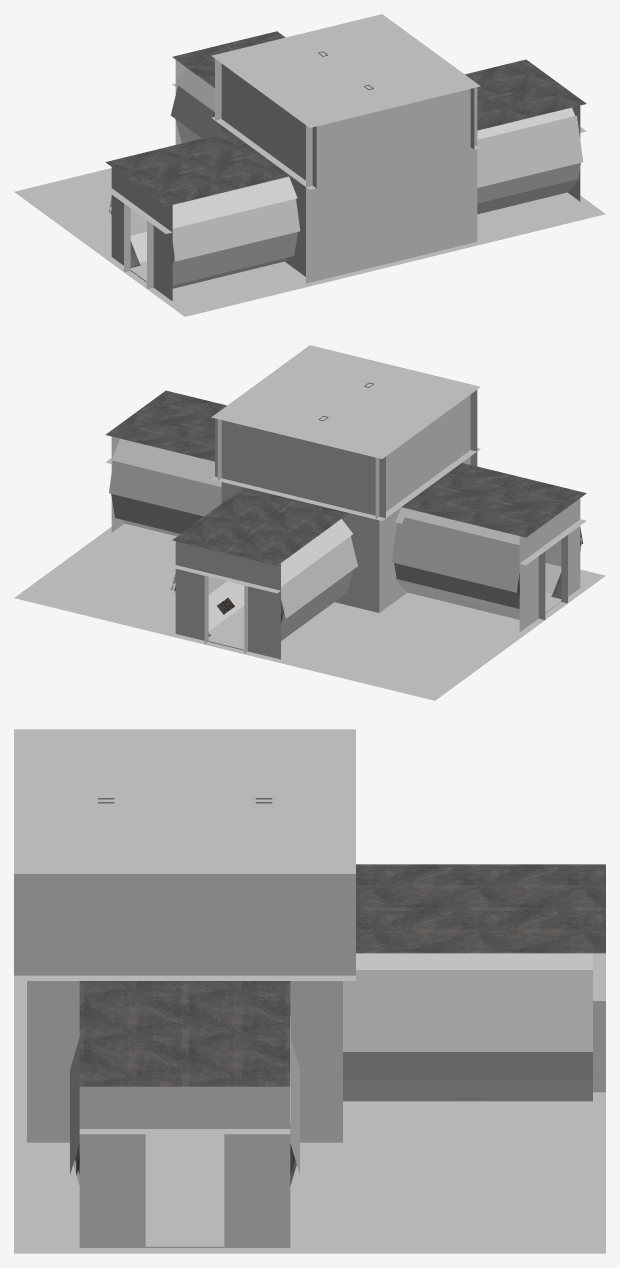
File: Room3_1_HCZ.fbx
The picture shows the model from 3 angles, top to bottom: view 1: azimuth 30°, elevation 25°; view 2: azimuth 150°, elevation 25°; view 3: azimuth 270°, elevation 25°; orthographic projection. The views are drawn at different scales.
Visible parts, largest first — view 1: Room3_Tunnel_HCZ; view 2: Room3_Tunnel_HCZ, Floor_Metal; view 3: Room3_Tunnel_HCZ, Floor_Metal.
Boxes of the visible parts, <box> form: Room3_Tunnel_HCZ: <box>14,14,605,316</box>; Room3_Tunnel_HCZ: <box>14,345,605,700</box>; Floor_Metal: <box>208,572,561,649</box>; Room3_Tunnel_HCZ: <box>14,729,605,1253</box>; Floor_Metal: <box>145,1134,224,1246</box>.
Bounding box in the file's own units: 20.48 × 7.39 × 14.4.
